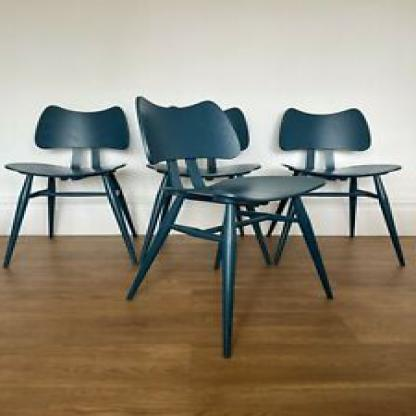chair: (127, 94, 335, 358), (271, 78, 408, 264), (0, 84, 124, 280), (135, 83, 262, 267)
